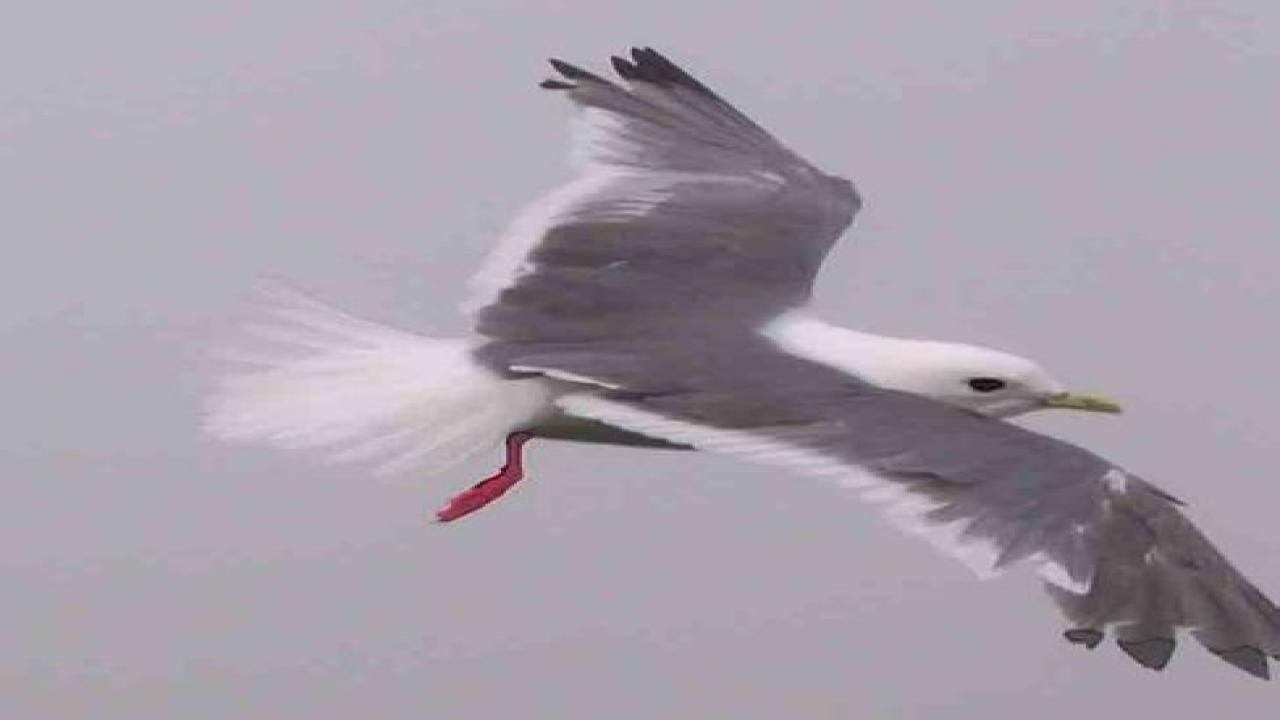Bird: (191, 37, 1280, 680)
